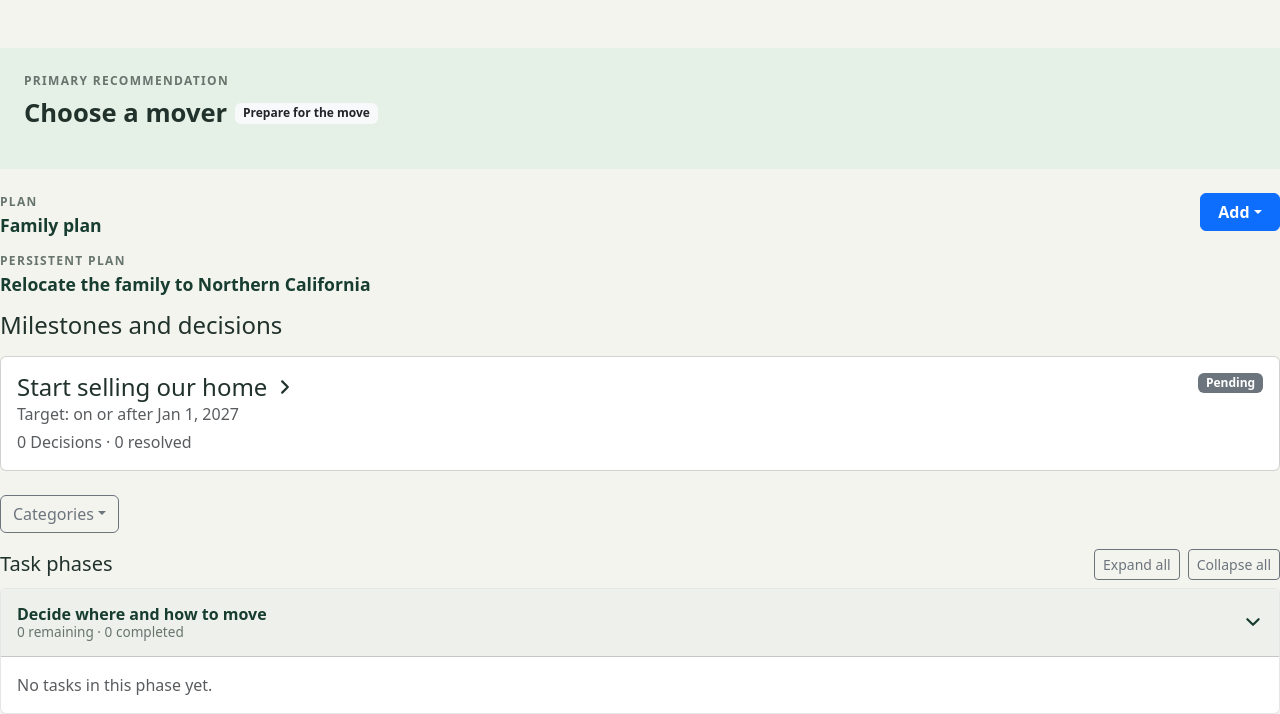
Test: relocation-plan recommendation experience › does not refresh the task recommendation for Milestone-only changes
The width and height of the screenshot is (1280, 714).
What coordinates should you click on to do the following:
click the button "Start selling our home"
I would click on:
 (156, 387)
Its box is [17,373,295,402].
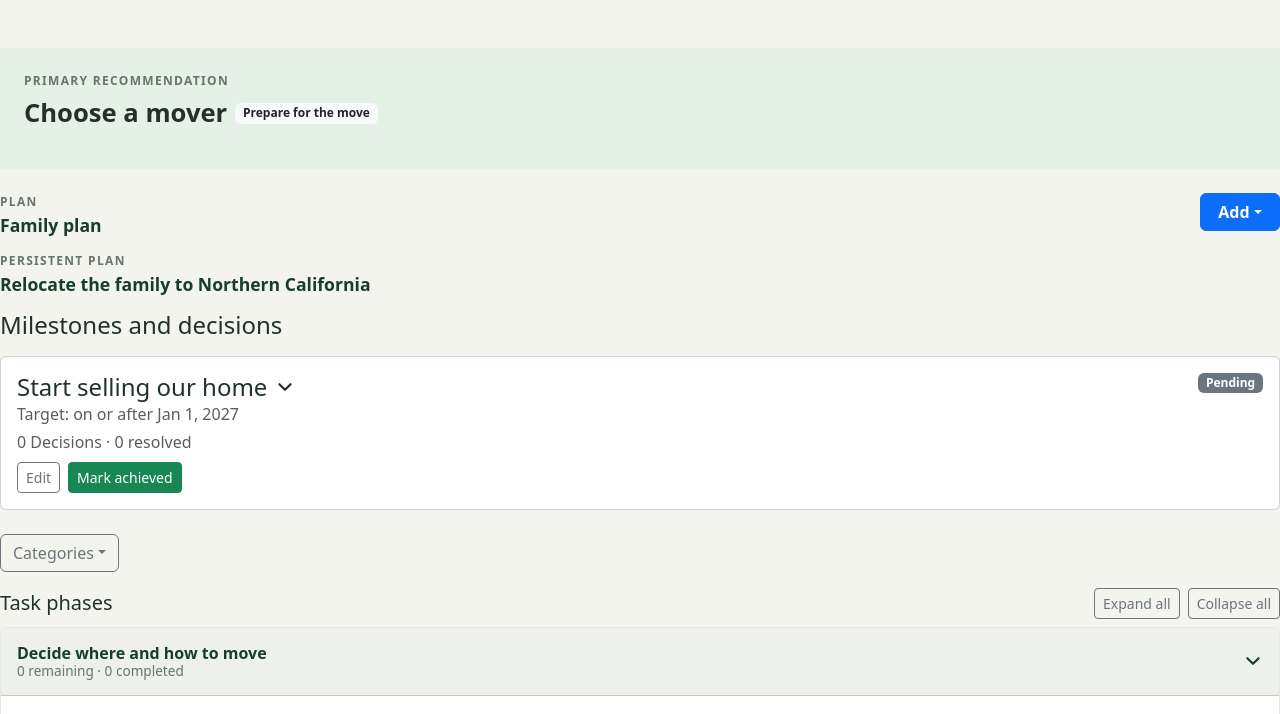
Expected: the button "Mark achieved" is shown
What coordinates should you click on to do the following:
click the button "Mark achieved"
I would click on:
 (125, 477)
Its box is [68,462,182,492].
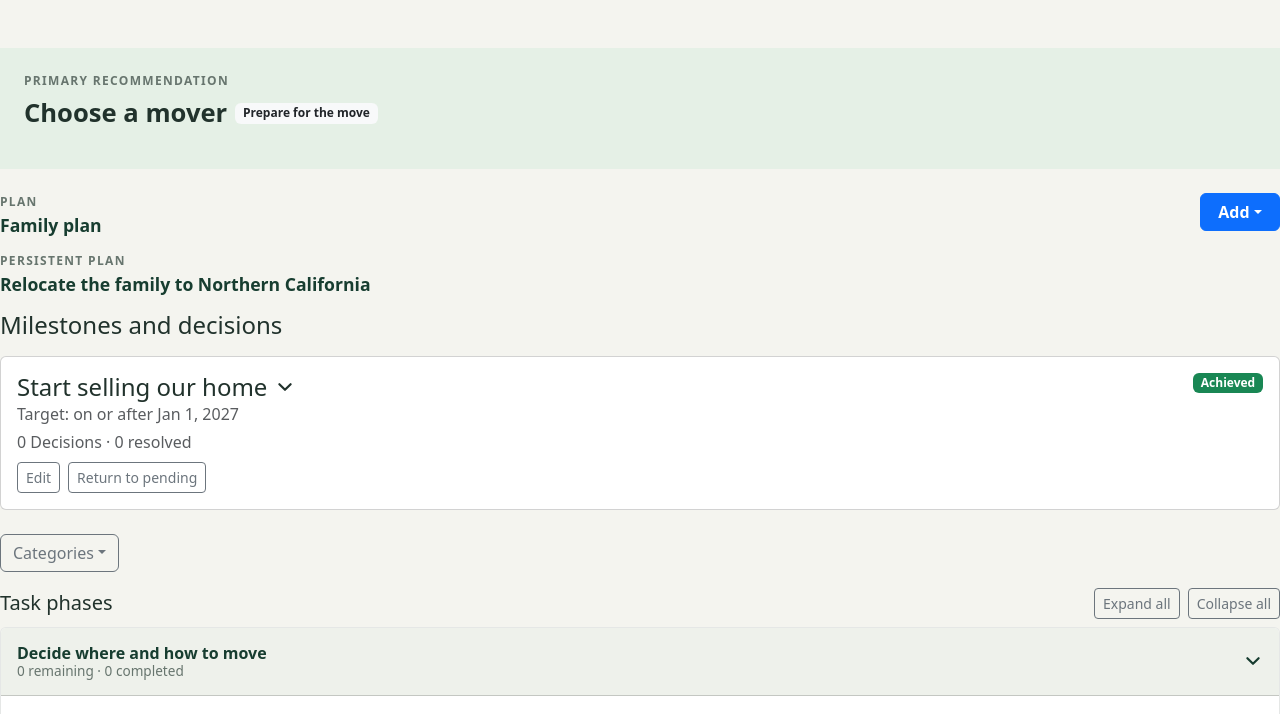
Expected: the heading "Start selling our home" is shown, [17,373,267,402]
Expected: the button "Return to pending" is shown, [68,462,206,492]
